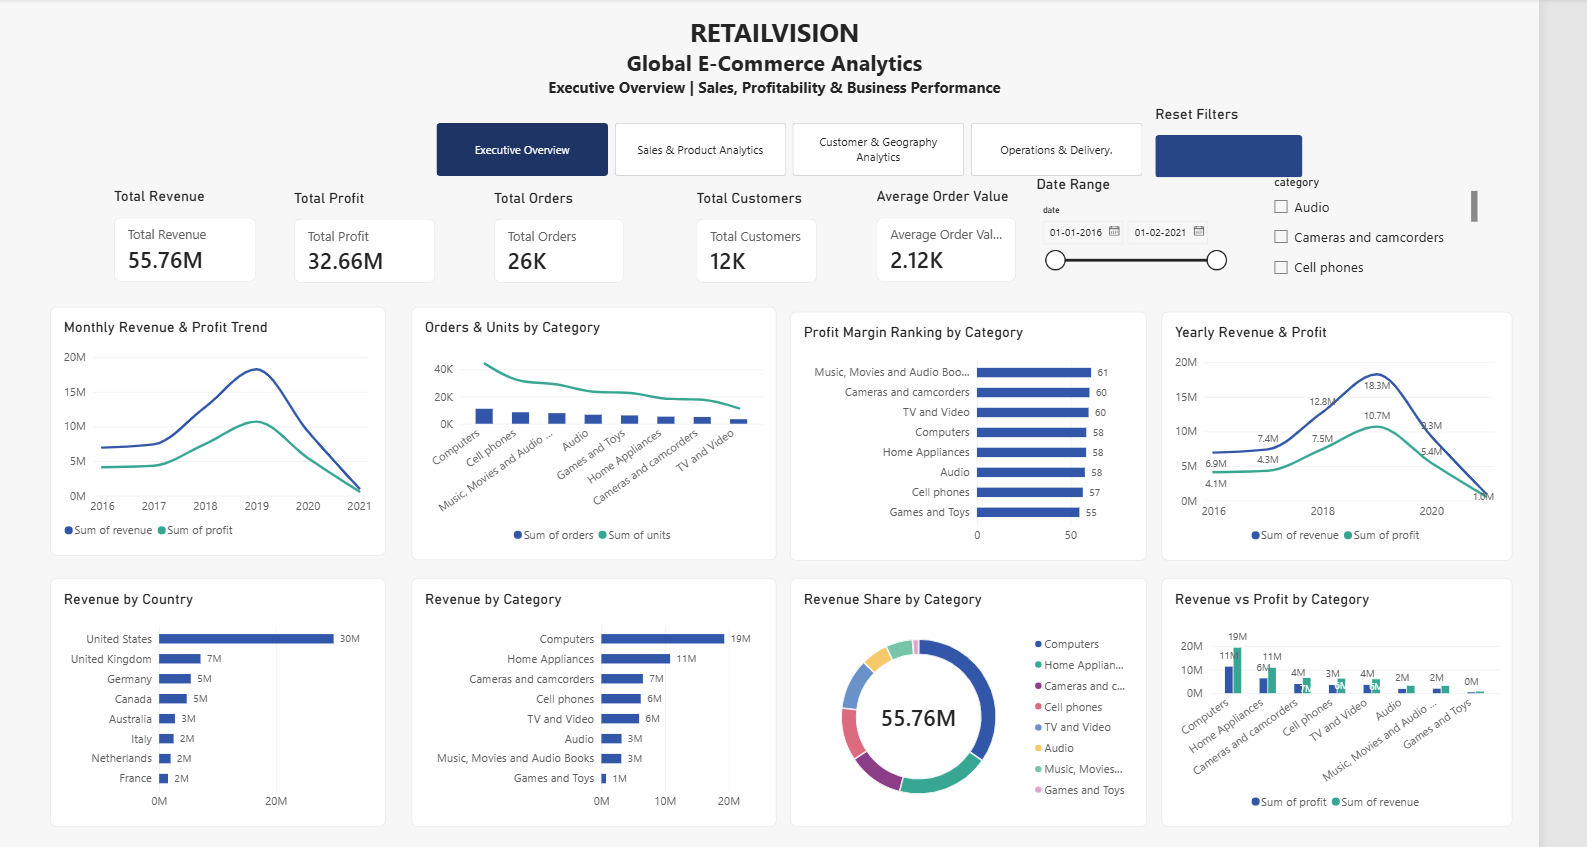

What the dashboard file says about the page in this screenshot:
{"tool":"powerbi","page":{"name":"Executive Overview","canvas":[1920,1080],"ordinal":0},"visuals":[{"type":"lineChart","title":"Monthly Revenue & Profit Trend","fields":{"Category":["monthly_sales.date.Variation.Date Hierarchy.Year","monthly_sales.date.Variation.Date Hierarchy.Quarter","monthly_sales.date.Variation.Date Hierarchy.Month","monthly_sales.date.Variation.Date Hierarchy.Day"],"Y":["Sum(monthly_sales.revenue)","Sum(monthly_sales.profit)"]},"box":[64.5,385.5,418.6,310.5],"z":0},{"type":"clusteredBarChart","title":"Revenue by Category","fields":{"Category":["category_performance.category"],"Y":["Sum(category_performance.revenue)"]},"box":[514.5,723.8,455.2,310.5],"z":1000},{"type":"clusteredBarChart","title":"Revenue by Country","fields":{"Category":["country_performance.country"],"Y":["Sum(country_performance.revenue)"]},"box":[64.5,723.8,418.6,310.5],"z":3000},{"type":"slicer","title":"Date Range","fields":{"Values":["monthly_sales.date"]},"box":[1294.2,221.5,240.7,134.3],"z":4000},{"type":"lineChart","title":"Yearly Revenue & Profit","fields":{"Category":["yearly_performance.year"],"Y":["Sum(yearly_performance.revenue)","Sum(yearly_performance.profit)"]},"box":[1449.4,390.7,437.8,310.5],"z":5000},{"type":"donutChart","title":"Revenue Share by Category","fields":{"Category":["category_performance.category"],"Y":["Sum(category_performance.revenue)"]},"box":[987.2,723.8,444.8,310.5],"z":6000},{"type":"clusteredColumnChart","title":"Revenue vs Profit by Category","fields":{"Category":["category_performance.category"],"Y":["Sum(category_performance.profit)","Sum(category_performance.revenue)"]},"box":[1449.4,723.8,437.8,310.5],"z":7000},{"type":"lineClusteredColumnComboChart","title":"Orders & Units by Category","fields":{"Category":["category_performance.category"],"Y":["Sum(category_performance.orders)"],"Y2":["Sum(category_performance.units)"]},"box":[514.5,385.5,455.2,315.7],"z":8000},{"type":"clusteredBarChart","title":"Profit Margin Ranking by Category","fields":{"Category":["category_performance.category"],"Y":["Sum(category_performance.profit_margin)"]},"box":[987.2,390.7,444.8,310.5],"z":9000},{"type":"cardVisual","title":"Total Revenue","fields":{"Data":["monthly_sales.Total Revenue"]},"box":[143,237.2,177,117.3],"z":10000},{"type":"cardVisual","title":"Total Profit","fields":{"Data":["monthly_sales.Total Profit"]},"box":[368,239,176.2,116.9],"z":11000},{"type":"cardVisual","title":"Total Orders","fields":{"Data":["monthly_sales.Total Orders"]},"box":[617.4,239,162.6,117.3],"z":12000},{"type":"cardVisual","title":"Total Customers","fields":{"Data":["monthly_sales.Total Customers"]},"box":[870.4,239,150.3,117.3],"z":13000},{"type":"cardVisual","title":"Average Order Value","fields":{"Data":["monthly_sales.Average Order Value"]},"box":[1093.6,237.2,175,117.3],"z":14000},{"type":"textbox","box":[29.7,20.9,1875,113.4],"z":16000},{"type":"slicer","fields":{"Values":["category_performance.category"]},"box":[1582,221.5,261.6,129.1],"z":16001},{"type":"pageNavigator","box":[545.9,155.2,880.8,66.3],"z":16002}]}

Visuals, with their boxes on the page's 1920x1080 design canvas (x1, y1, x2, y2). These are canvas units, not pixel positions in the 1587x847 screenshot, which may show the page scaled, cropped or inside an application window:
"Monthly Revenue & Profit Trend" lineChart: detection(64, 386, 483, 696)
"Revenue by Category" clusteredBarChart: detection(514, 724, 970, 1034)
"Revenue by Country" clusteredBarChart: detection(64, 724, 483, 1034)
"Date Range" slicer: detection(1294, 222, 1535, 356)
"Yearly Revenue & Profit" lineChart: detection(1449, 391, 1887, 701)
"Revenue Share by Category" donutChart: detection(987, 724, 1432, 1034)
"Revenue vs Profit by Category" clusteredColumnChart: detection(1449, 724, 1887, 1034)
"Orders & Units by Category" lineClusteredColumnComboChart: detection(514, 386, 970, 701)
"Profit Margin Ranking by Category" clusteredBarChart: detection(987, 391, 1432, 701)
"Total Revenue" cardVisual: detection(143, 237, 320, 354)
"Total Profit" cardVisual: detection(368, 239, 544, 356)
"Total Orders" cardVisual: detection(617, 239, 780, 356)
"Total Customers" cardVisual: detection(870, 239, 1021, 356)
"Average Order Value" cardVisual: detection(1094, 237, 1269, 354)
textbox: detection(30, 21, 1905, 134)
slicer - category_performance.category: detection(1582, 222, 1844, 351)
pageNavigator: detection(546, 155, 1427, 222)
